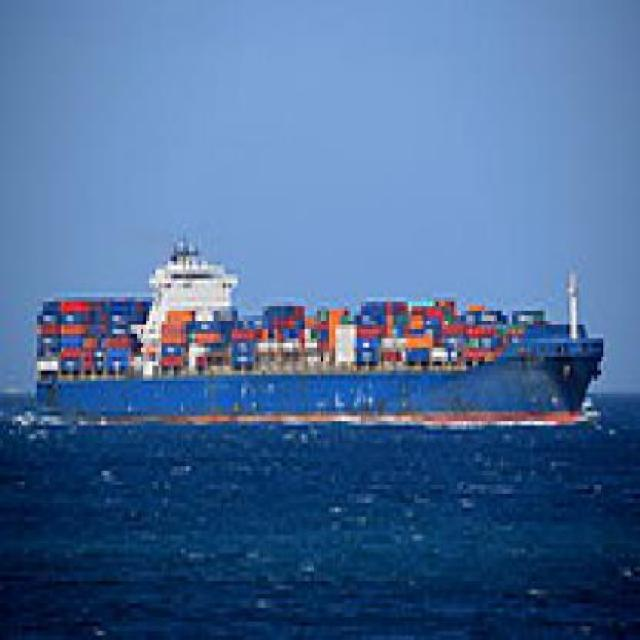container: (25, 211, 617, 431)
